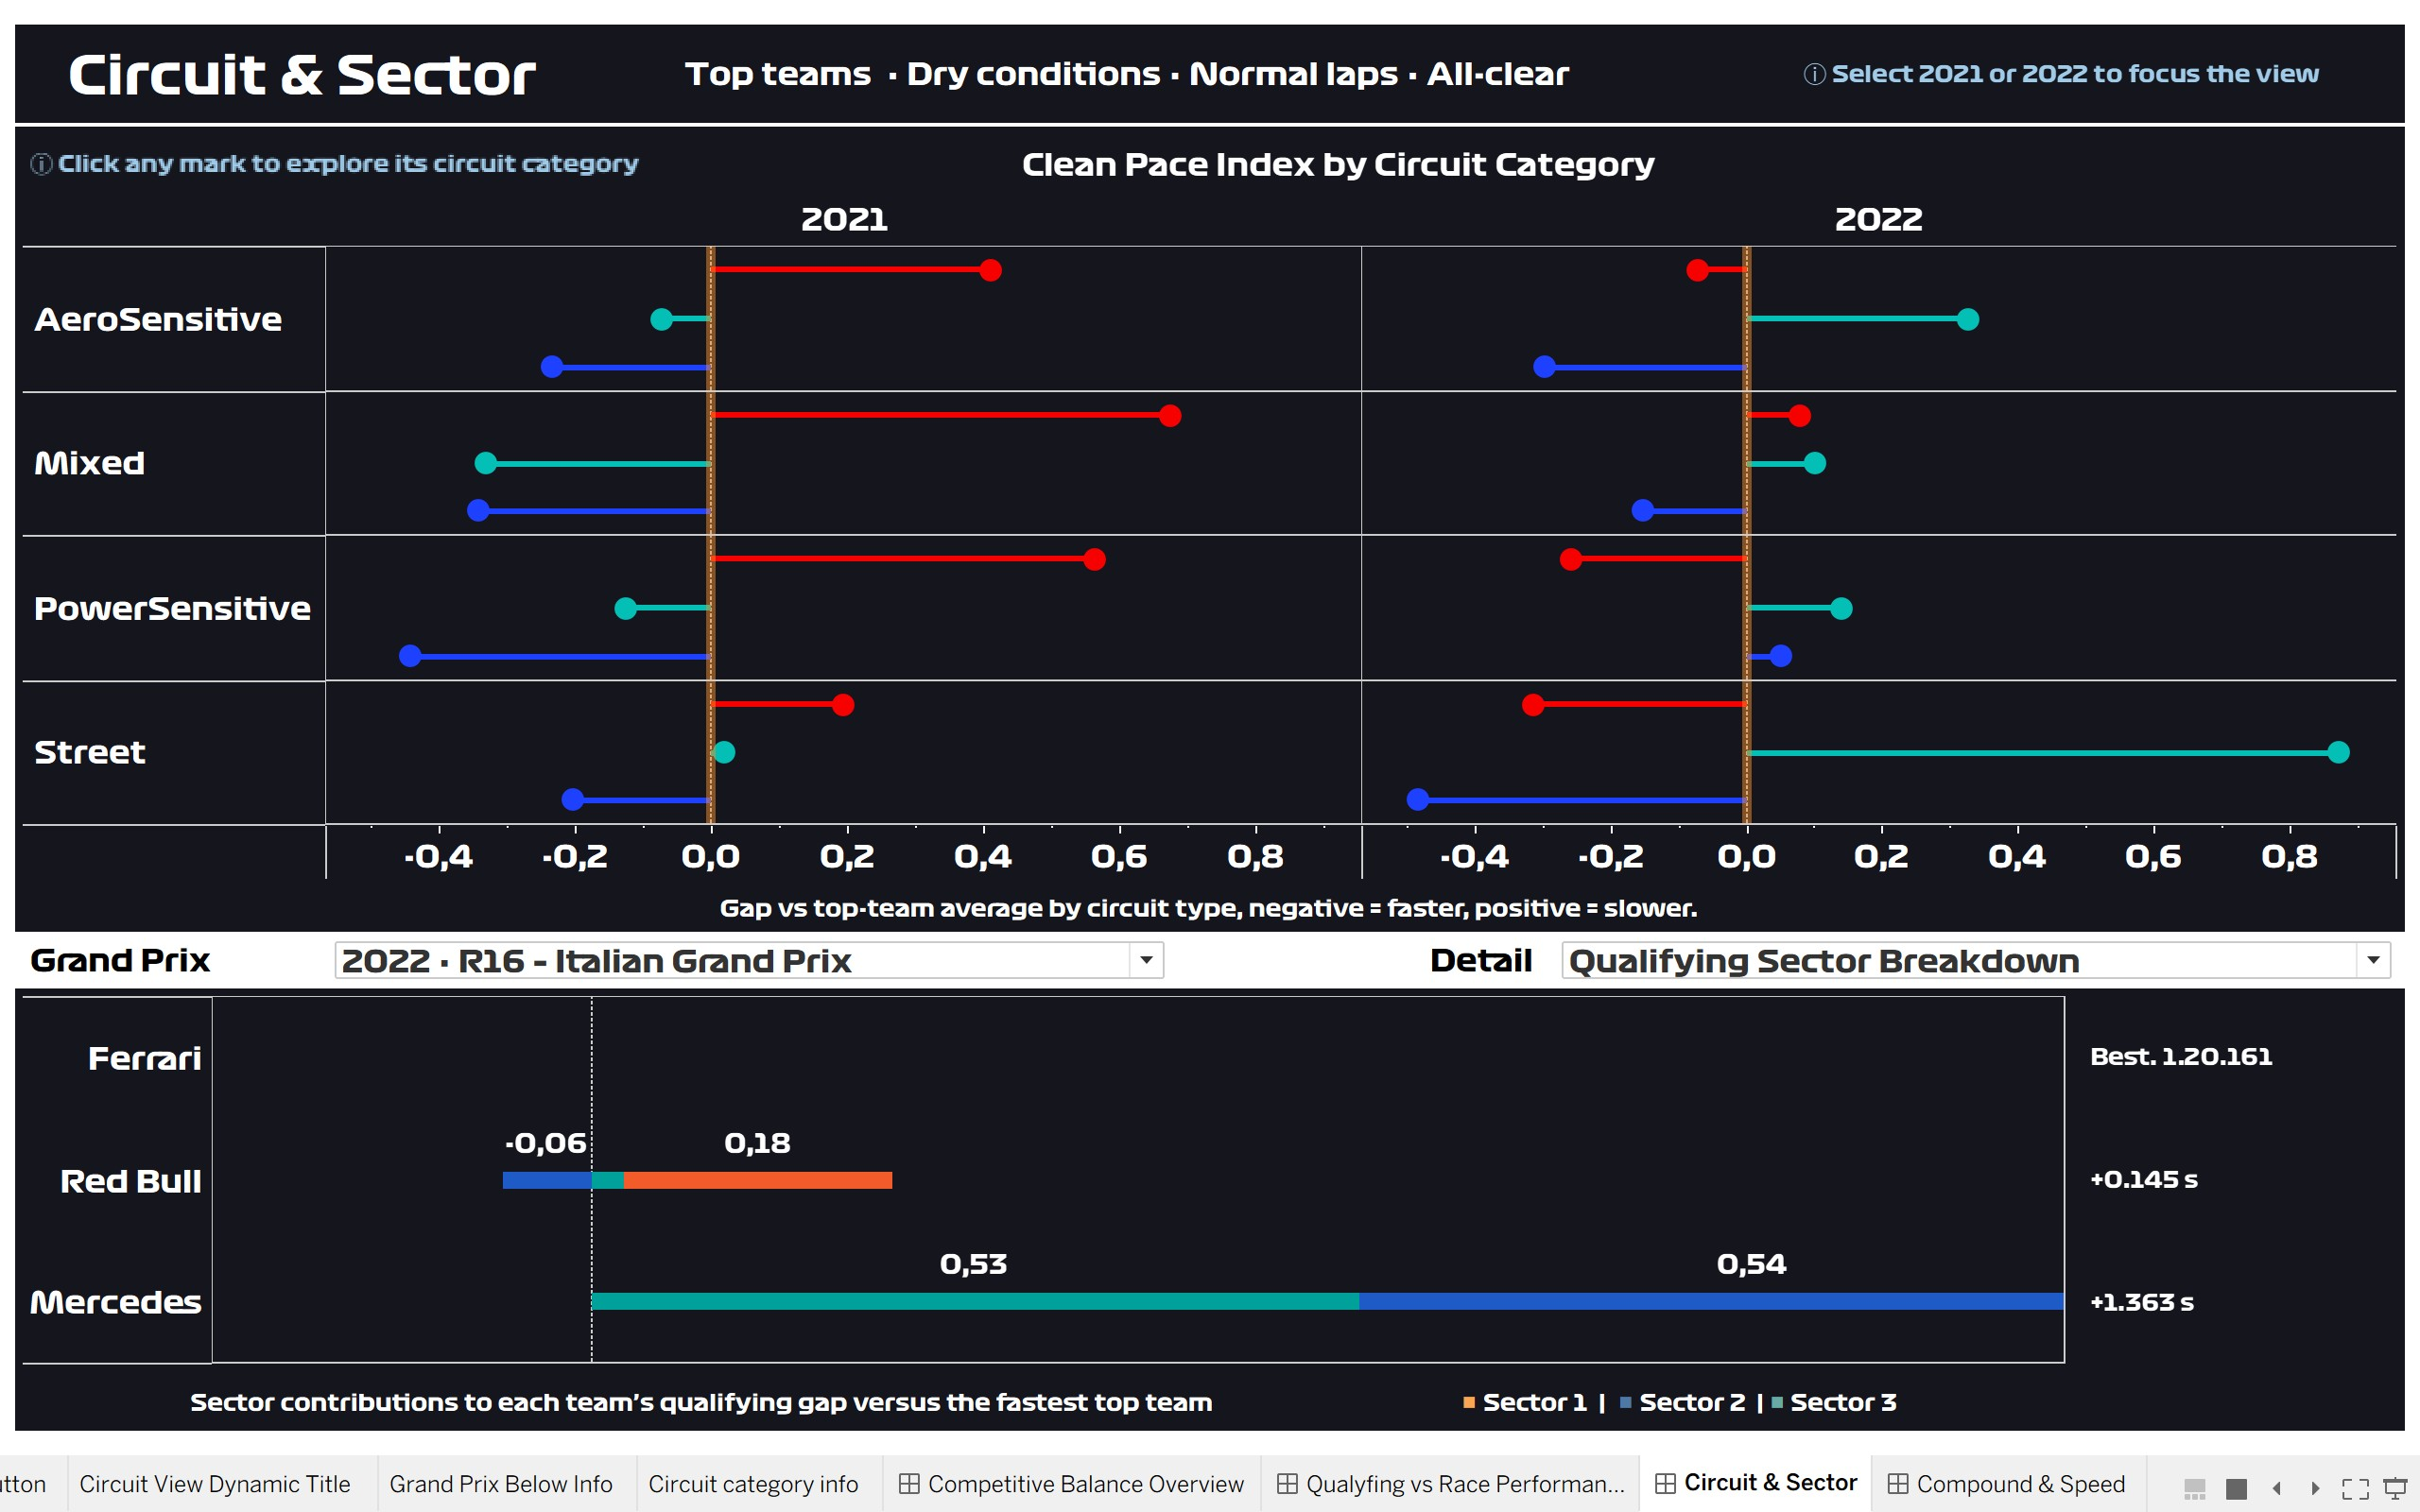

This screenshot's page, from the dashboard's own definition file:
{"tool":"tableau","page":{"name":"Circuit & Sector","canvas":[1280,760],"ordinal":0},"visuals":[{"type":"text","box":[8,8,346,52]},{"type":"text","box":[354,8,592,52]},{"type":"worksheet","title":"Season Info Message","mark":"Automatic","box":[946,8,326,52]},{"type":"worksheet","title":"Season Back Button","mark":"Automatic","box":[960,8,312,52]},{"type":"worksheet","title":"Circuit category info","mark":"Automatic","box":[8,62,524,39]},{"type":"worksheet","title":"Back to Circuit Categories","mark":"Text","box":[8,62,467,39]},{"type":"worksheet","title":"Circuit View Dynamic Title","mark":"Automatic","box":[532,62,415,39]},{"type":"worksheet","title":"Grand Prix Below Info","mark":"Automatic","box":[890,62,382,39]},{"type":"blank","box":[8,101,161,20]},{"type":"worksheet","title":"Season Year Selector","mark":"Text","rows":["Calculation_1987116227198986"],"cols":["season_year"],"box":[169,101,1103,20]},{"type":"worksheet","title":"CPI — Category Overview","mark":"GanttBar","rows":["global_circuit_category","team_name"],"cols":["season_year","Calculation_2377154289201161","Calculation_2377154284285960"],"box":[8,121,1264,366.9]},{"type":"worksheet","title":"CPI — Circuit Drilldown","mark":"GanttBar","rows":["event_name","team_name"],"cols":["season_year","Calculation_2377154289201161","Calculation_2377154284285960"],"box":[8,121,1264,367]},{"type":"text","box":[8,488,162,30]},{"type":"parameter","param":"[Parameters].[Parameter 1987116235718677]","box":[170,488,453,30]},{"type":"text","box":[623,488,196,30]},{"type":"parameter","param":"[Parameters].[Parameter 3402459086753835]","box":[819,488,453,30]},{"type":"worksheet","title":"Sector 1 Fingerprint","mark":"Circle","rows":["team_name"],"cols":["season_year","Calculation_2377154473168937","Calculation_2377154461823002"],"box":[8,518,470,234]},{"type":"worksheet","title":"Quali Sector Contribution","mark":"Bar","rows":["team_name"],"cols":["season_year"],"box":[8,518,1089,234]},{"type":"worksheet","title":"Clean Race Pace Overview","mark":"GanttBar","rows":["team_name"],"cols":["Calculation_3402459075788824","Calculation_3402459075862553"],"box":[8,518,928,234]},{"type":"worksheet","title":"Sector 2 Fingerprint","mark":"Circle","rows":["team_name"],"cols":["season_year","Calculation_2377154478805036","Calculation_2377154462015515"],"box":[478,518,403,234]},{"type":"worksheet","title":"Sector 3 Fingerprint","mark":"Circle","rows":["team_name"],"cols":["season_year","Calculation_2377154482085935","Team Sector 2 Avg S (copy)_2377154462101532"],"box":[881,518,391,234]},{"type":"worksheet","title":"Clean Race Pace Overview Labels","mark":"Text","rows":["team_name"],"box":[936,518,336,234]},{"type":"worksheet","title":"Qualifying Result KPI","mark":"Text","rows":["team_name"],"box":[1097,518,175,202]},{"type":"blank","box":[1097,720,175,32]}]}

Visuals, with their boxes on the page's 1280x760 design canvas (x1, y1, x2, y2). These are canvas units, not pixel positions in the 2420x1512 screenshot, which may show the page scaled, cropped or inside an application window:
text: locate(8, 8, 354, 60)
text: locate(354, 8, 946, 60)
"Season Info Message" worksheet: locate(946, 8, 1272, 60)
"Season Back Button" worksheet: locate(960, 8, 1272, 60)
"Circuit category info" worksheet: locate(8, 62, 532, 101)
"Back to Circuit Categories" worksheet (Text marks): locate(8, 62, 475, 101)
"Circuit View Dynamic Title" worksheet: locate(532, 62, 947, 101)
"Grand Prix Below Info" worksheet: locate(890, 62, 1272, 101)
blank: locate(8, 101, 169, 121)
"Season Year Selector" worksheet (Text marks): locate(169, 101, 1272, 121)
"CPI — Category Overview" worksheet (GanttBar marks): locate(8, 121, 1272, 488)
"CPI — Circuit Drilldown" worksheet (GanttBar marks): locate(8, 121, 1272, 488)
text: locate(8, 488, 170, 518)
parameter: locate(170, 488, 623, 518)
text: locate(623, 488, 819, 518)
parameter: locate(819, 488, 1272, 518)
"Sector 1 Fingerprint" worksheet (Circle marks): locate(8, 518, 478, 752)
"Quali Sector Contribution" worksheet (Bar marks): locate(8, 518, 1097, 752)
"Clean Race Pace Overview" worksheet (GanttBar marks): locate(8, 518, 936, 752)
"Sector 2 Fingerprint" worksheet (Circle marks): locate(478, 518, 881, 752)
"Sector 3 Fingerprint" worksheet (Circle marks): locate(881, 518, 1272, 752)
"Clean Race Pace Overview Labels" worksheet (Text marks): locate(936, 518, 1272, 752)
"Qualifying Result KPI" worksheet (Text marks): locate(1097, 518, 1272, 720)
blank: locate(1097, 720, 1272, 752)
